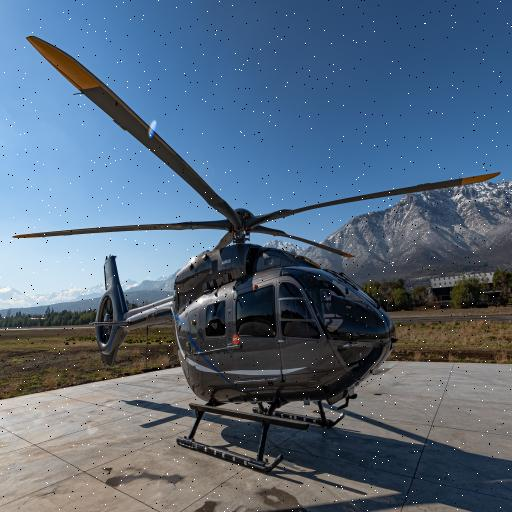helicopter: (13, 30, 509, 482)
